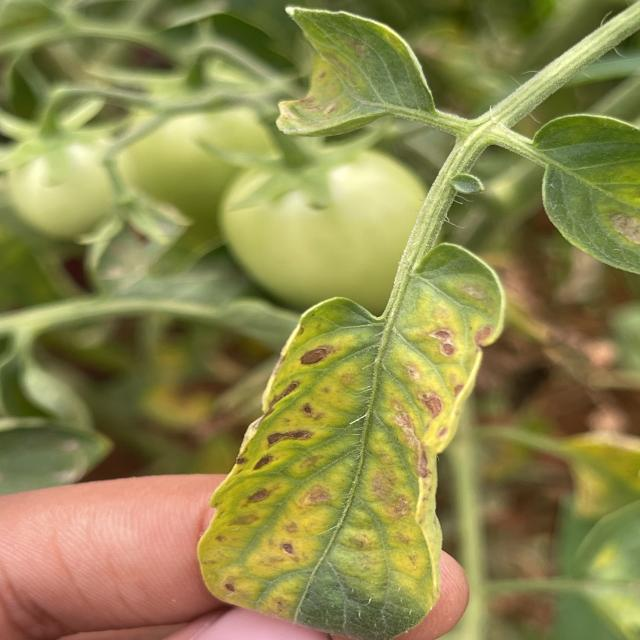tomato_early blight: (186, 241, 500, 640), (271, 5, 450, 139), (525, 115, 640, 275), (553, 426, 640, 529)
